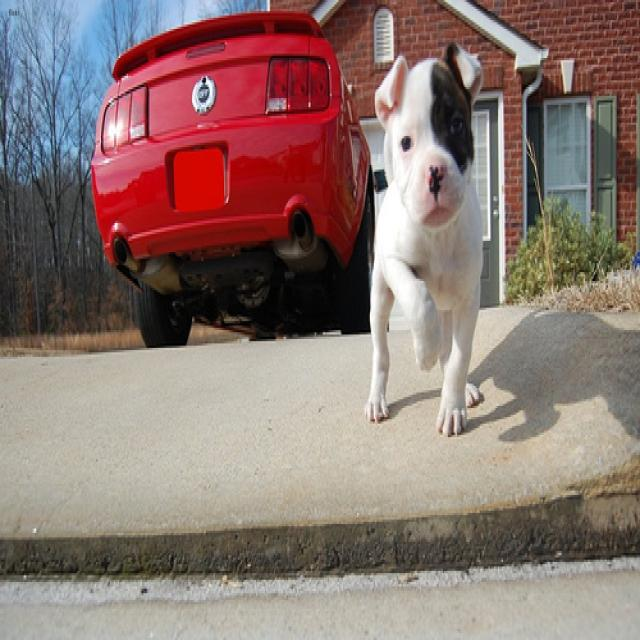dog-american_bulldog: (360, 29, 498, 442)
